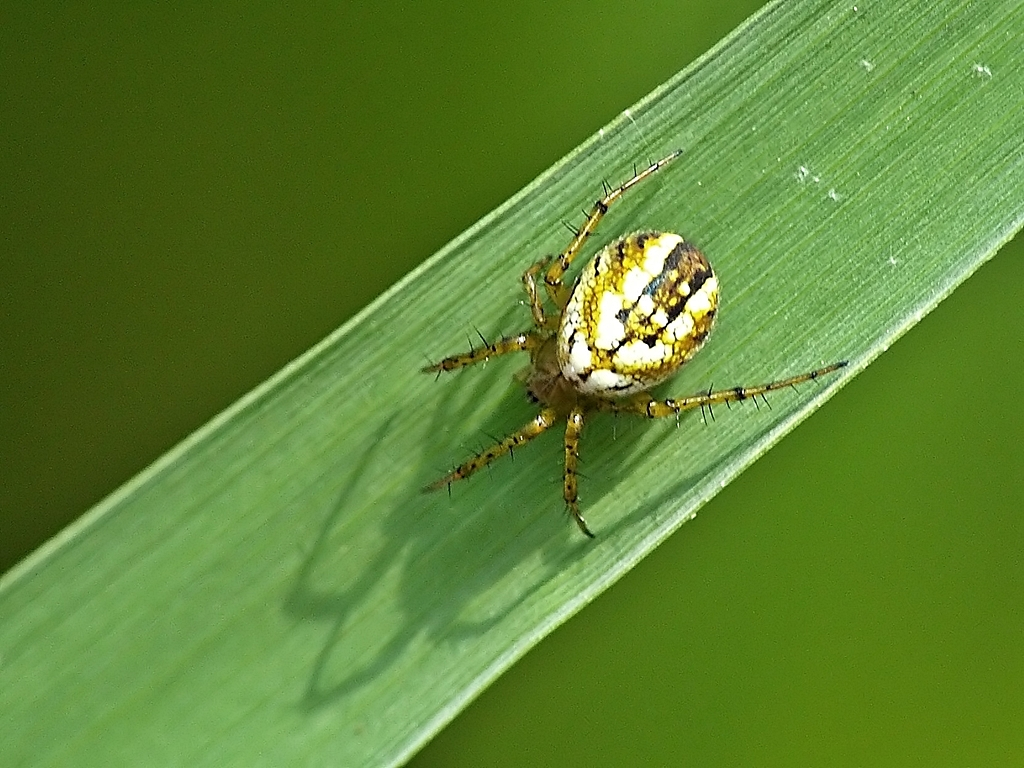spider: (321, 107, 893, 581)
